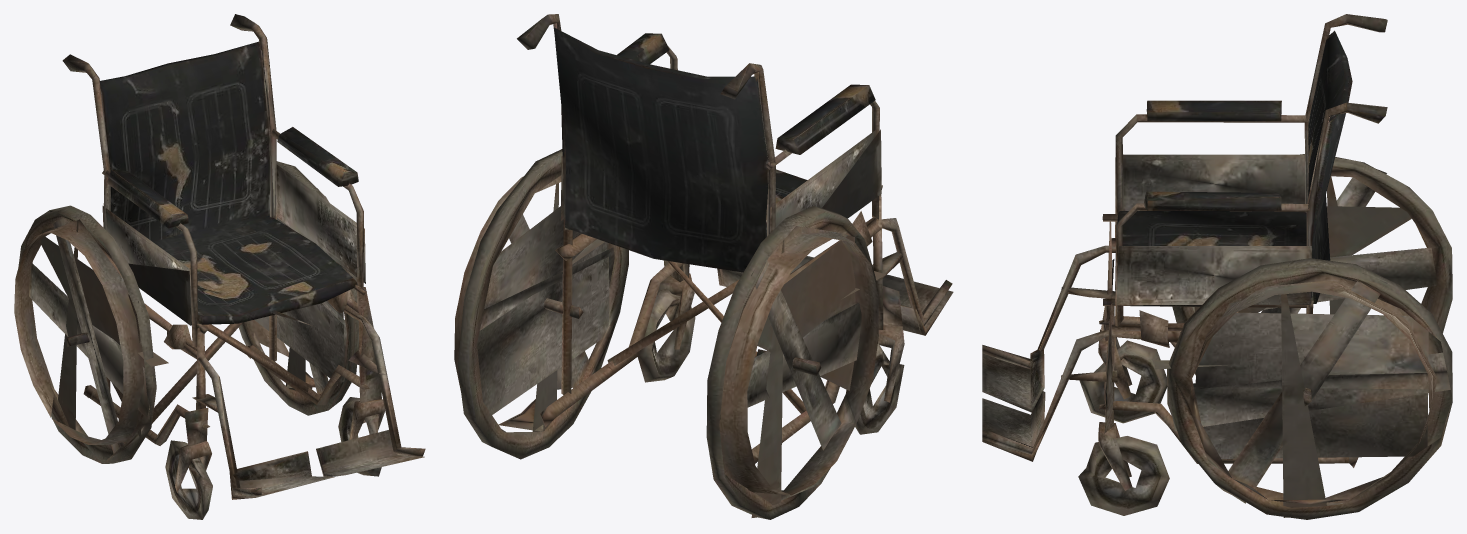
Rendered from wheelchair.glb.
3 views of the same model, side by side, from view 1: azimuth 30°, elevation 25°; view 2: azimuth 150°, elevation 25°; view 3: azimuth 270°, elevation 25° (orthographic). The views are drawn at different scales.
Bounding box in the file's own units: 0.6523 × 0.9651 × 1.
1 material, 1 textured.
